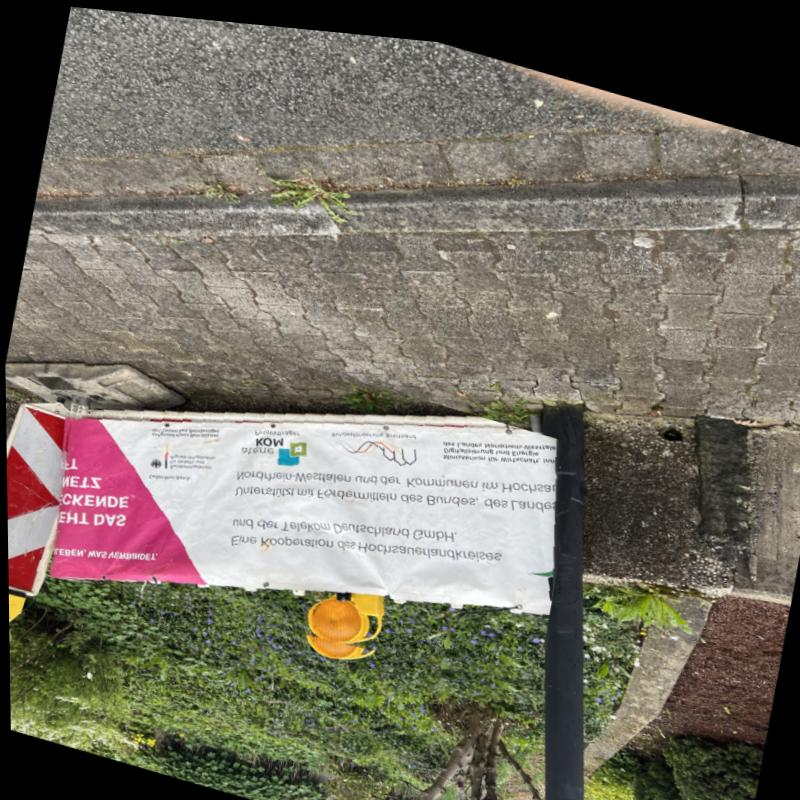Banner: (47, 407, 550, 606)
